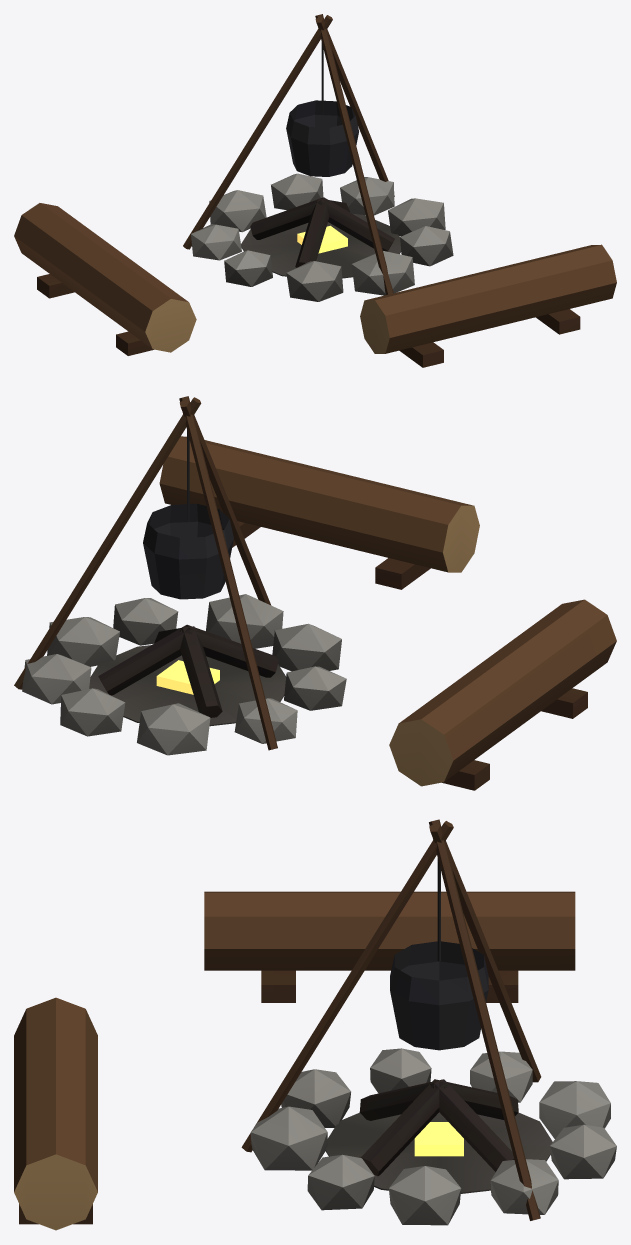
File: camp_hearth_set_low.glb
The picture shows the model from 3 angles, top to bottom: view 1: azimuth 30°, elevation 25°; view 2: azimuth 150°, elevation 25°; view 3: azimuth 270°, elevation 25°; orthographic projection. The views are drawn at different scales.
Parts seen in each view (by area): view 1: camp_hearth_set; view 2: camp_hearth_set; view 3: camp_hearth_set.
Part boxes in pixels (x1=…): camp_hearth_set: x1=14, y1=14, x2=616, y2=367; camp_hearth_set: x1=14, y1=396, x2=616, y2=790; camp_hearth_set: x1=14, y1=819, x2=616, y2=1230.
Bounding box in the file's own units: 2.67 × 1.47 × 2.44.
